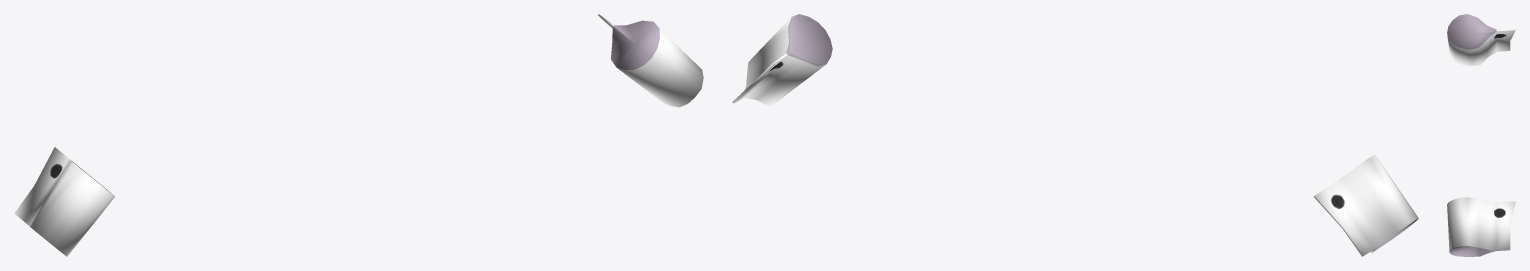
File: Maid-acc.fbx
The picture shows the model from 3 angles, left to right: view 1: azimuth 30°, elevation 25°; view 2: azimuth 150°, elevation 25°; view 3: azimuth 270°, elevation 25°; orthographic projection. The views are drawn at different scales.
Parts seen in each view (by area): view 1: Maid acc_mesh; view 2: Maid acc_mesh; view 3: Maid acc_mesh.
Part boxes in pixels (x1,y1,x2,y2): Maid acc_mesh: (14,14,703,256); Maid acc_mesh: (732,14,1418,256); Maid acc_mesh: (1447,14,1515,256).
Size of the model in its own units: 84.65 by 10.5 by 11.7.
1 material, 1 textured.
